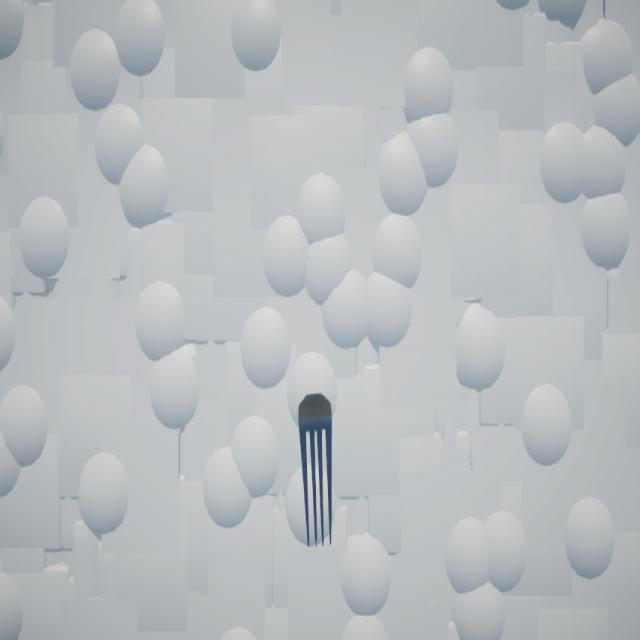top_folk: (299, 393, 333, 548)
